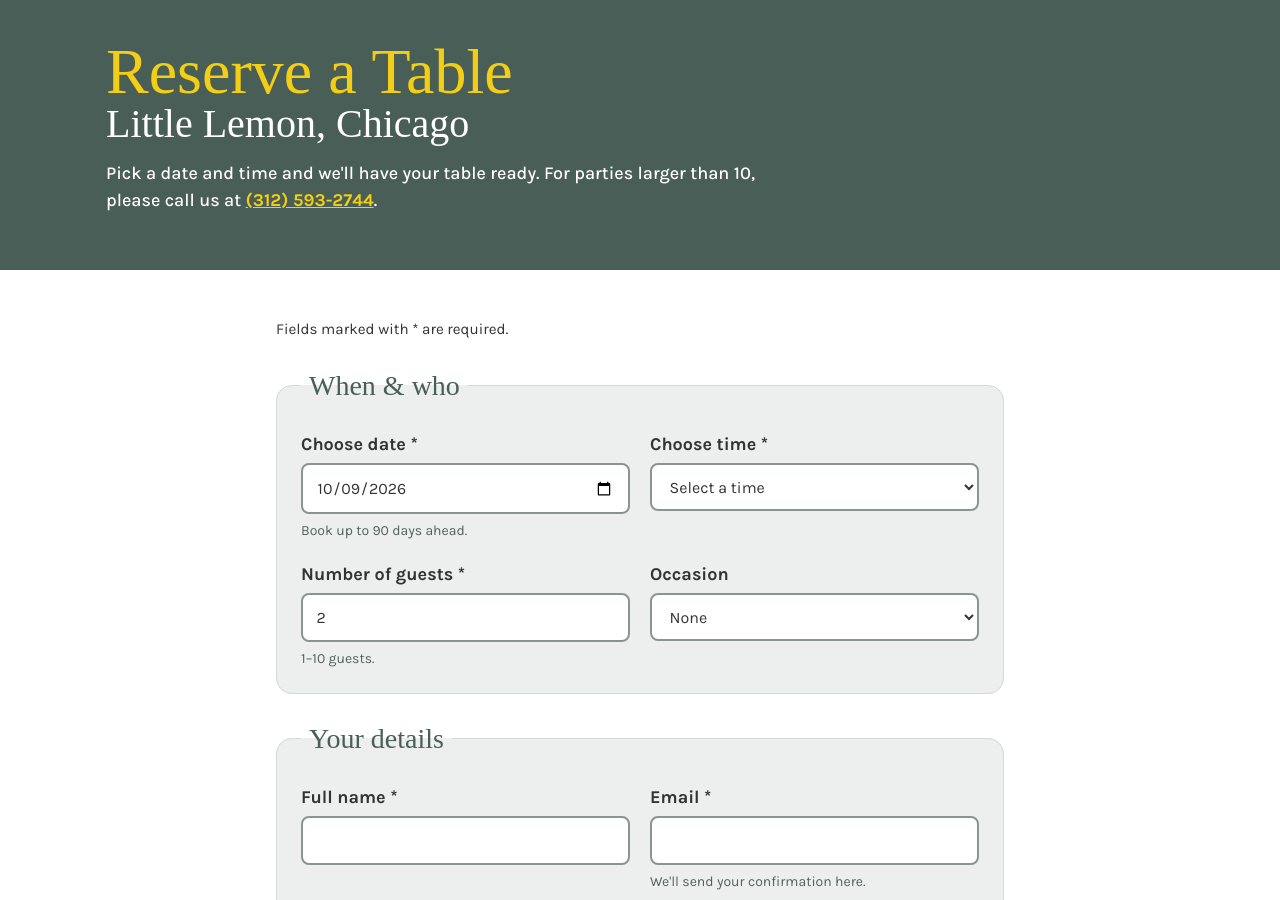
Test case: BookingPage › navigates to the confirmation page after a successful booking
Select "17:00" in the dropdown labelled "Choose time *": x=814, y=487 [650,463,979,511]
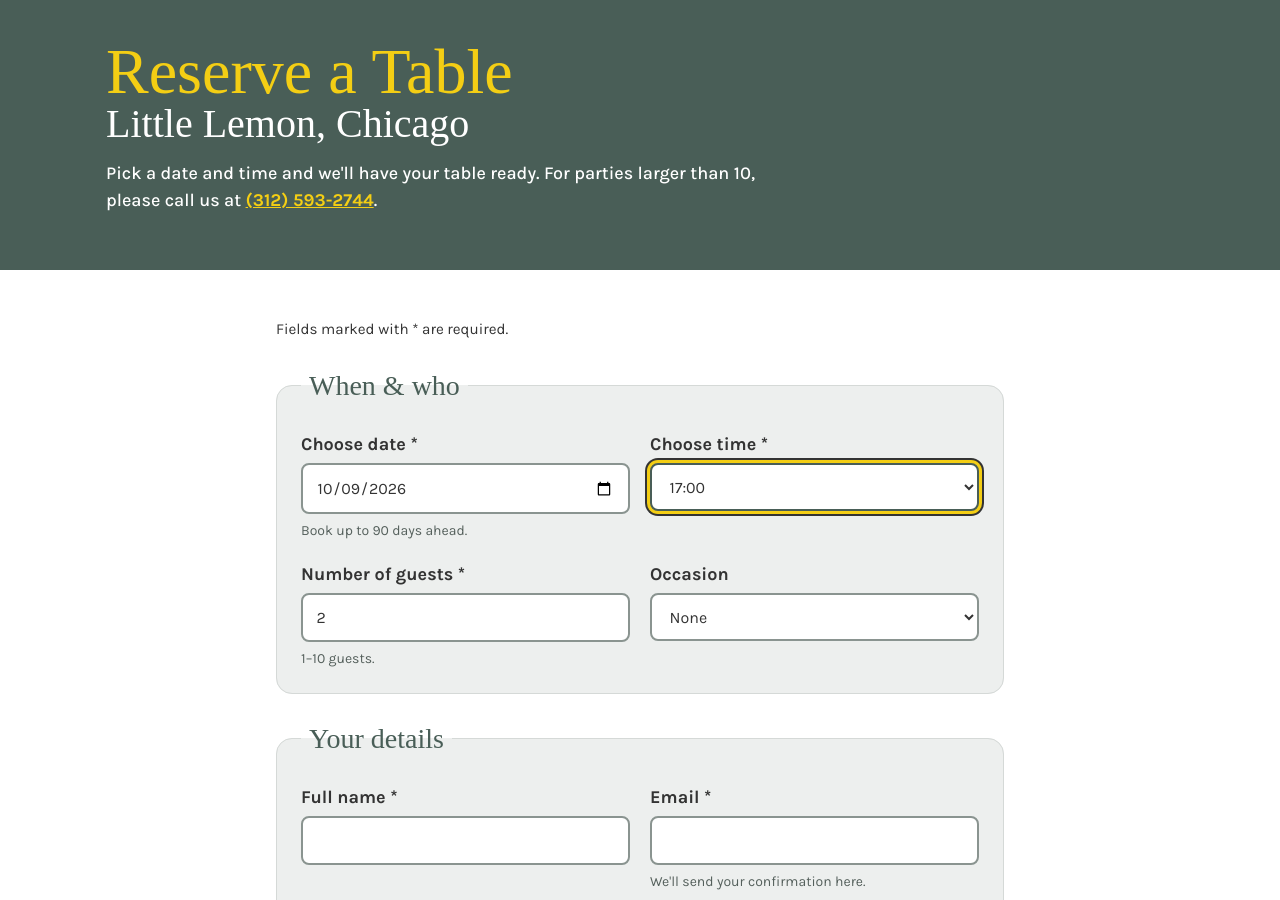
In the field labelled "Full name *": x=466, y=841 [301,816,630,865], type "Ada Lovelace"
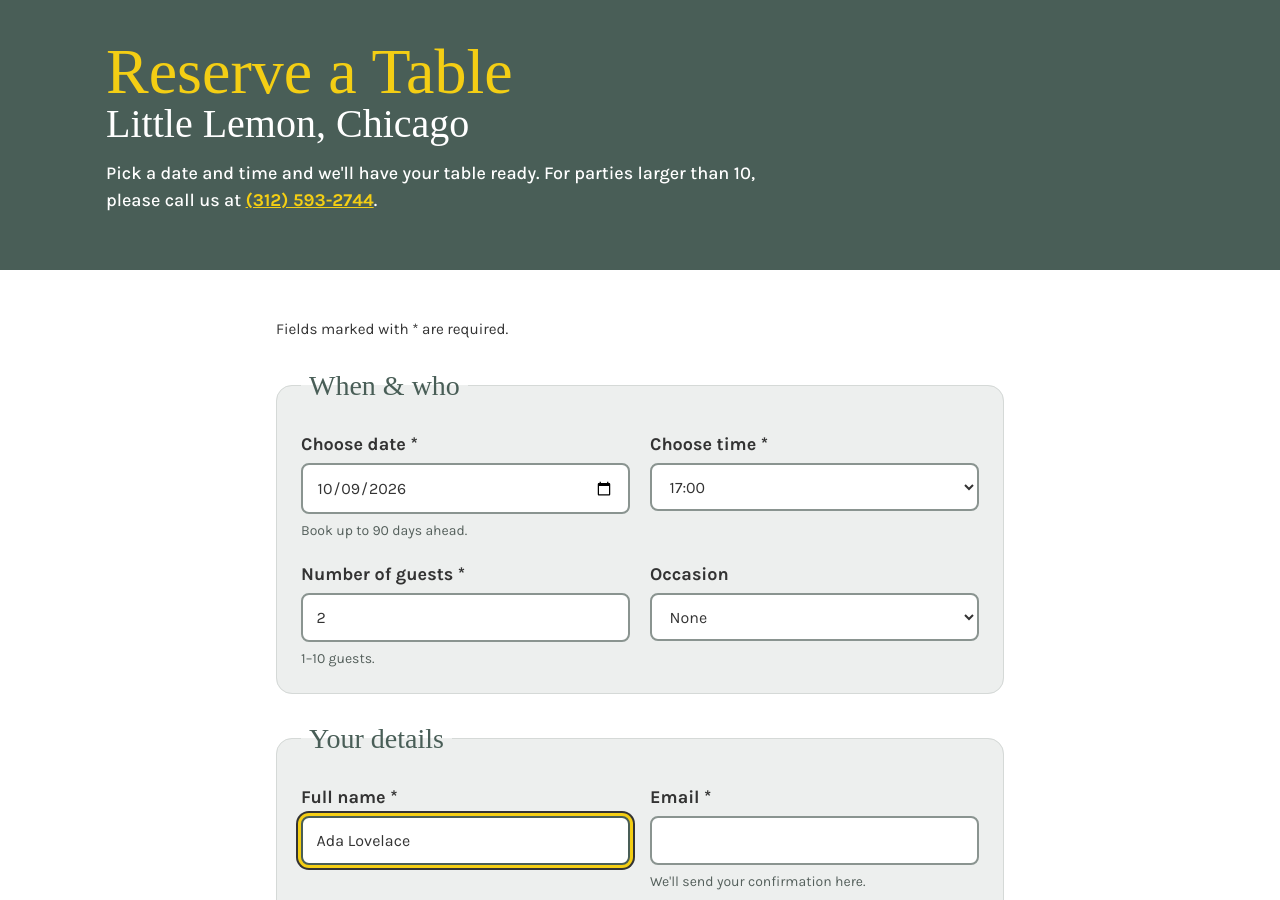
In the field labelled "Email *": x=814, y=841 [650,816,979,865], type "ada@example.com"
(page scrolled)
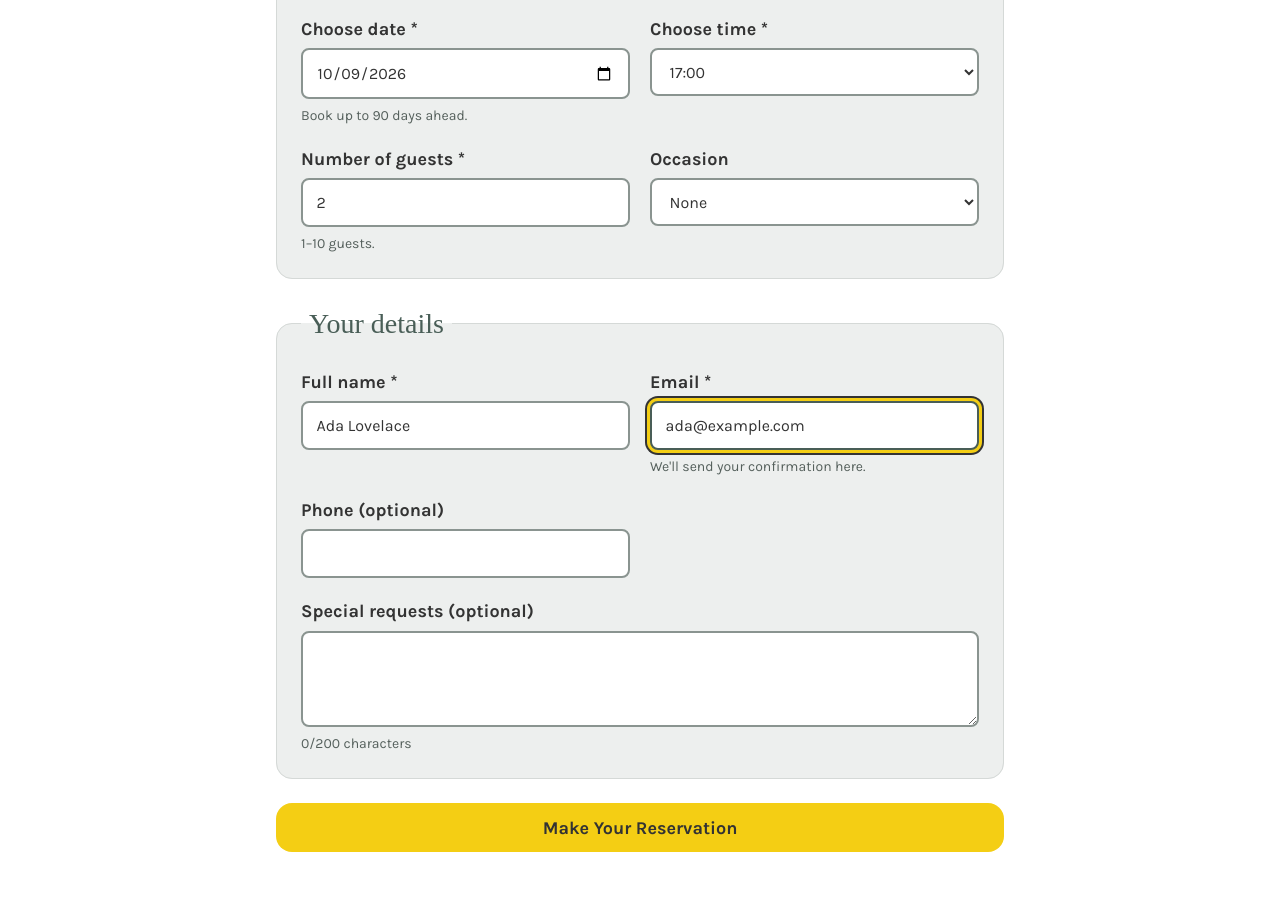
Click the button "Make Your Reservation": x=640, y=828 [276,803,1004,852]
(page scrolled)
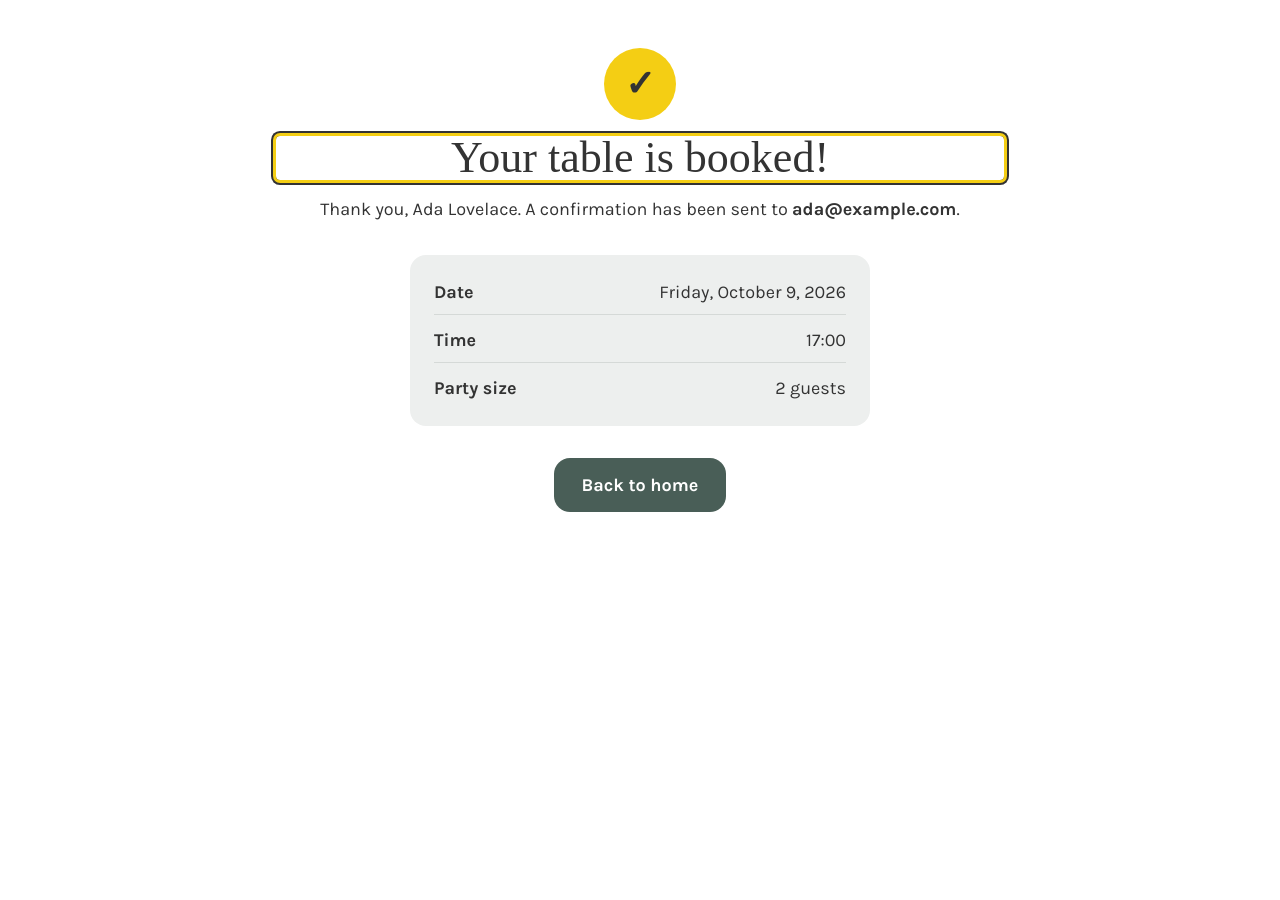
Now the heading "Your table is booked!" is shown, box [276,136,1004,180]
Now the text "17:00" is shown, box [806,327,846,354]
Now the text "ada@example.com" is shown, box [792,198,956,220]
